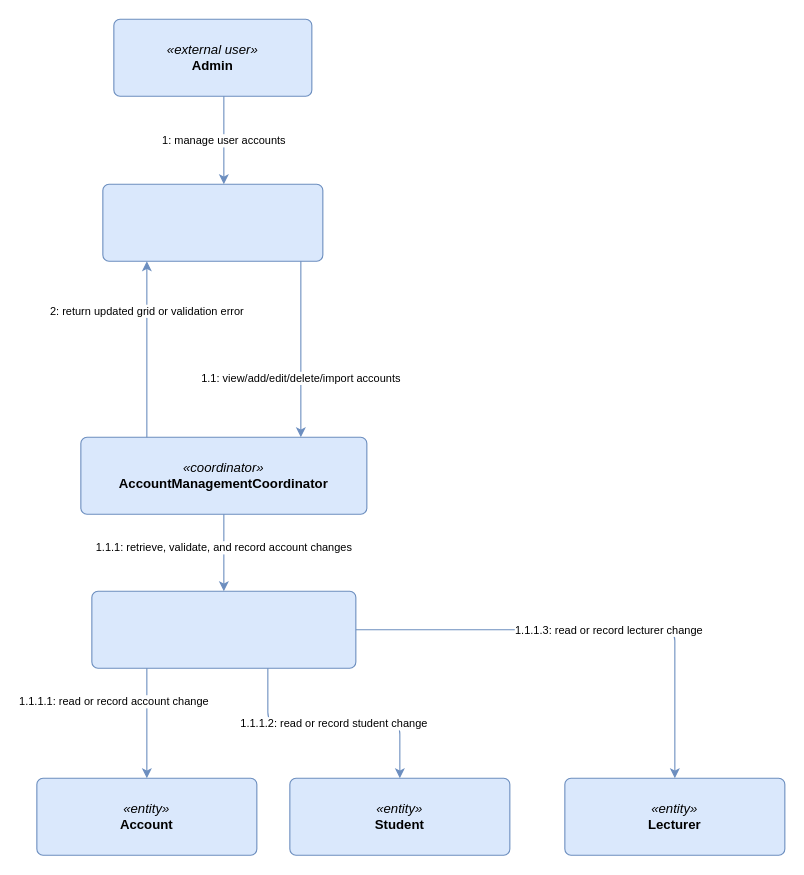
Image size: 804x875. Some labels were removed from this diagram. Here are the shapes that lost their labels. From the top down, the centre of each, then its label:
the point at 212,222: «user interface» AdminInterface
the point at 223,629: «business logic» AccountManagementRules
